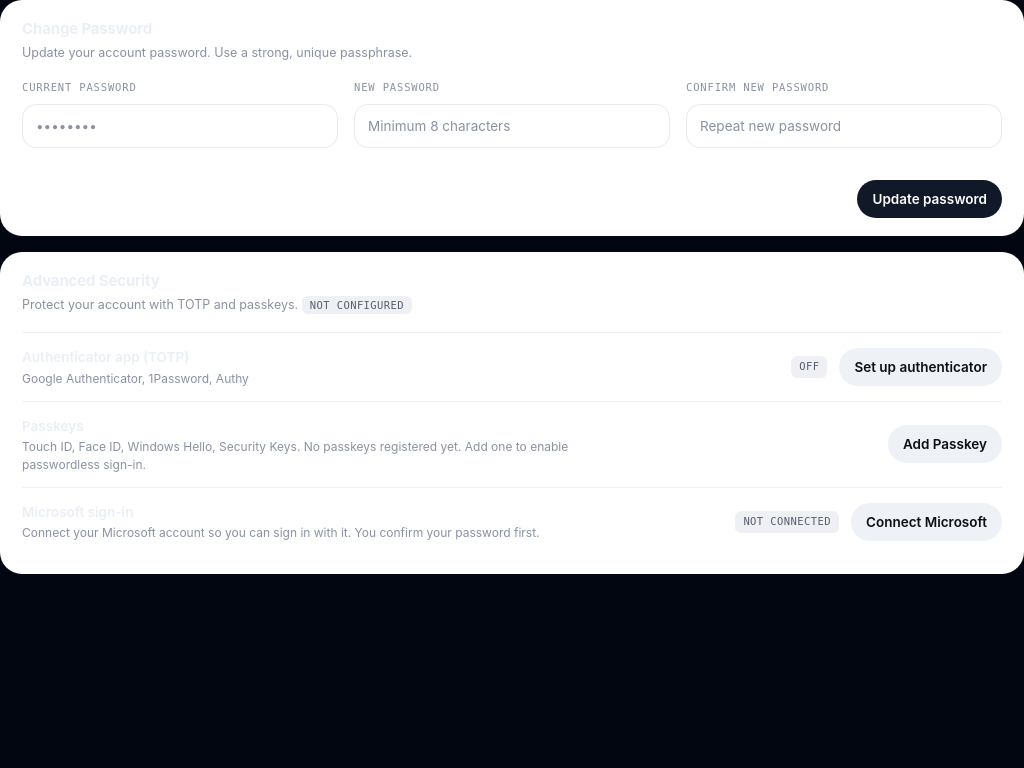
Test: SecuritySection Microsoft linking › sends nothing until the password and the confirmation are both given
Click the button "Connect Microsoft" at (926, 522), box [851, 503, 1002, 541]
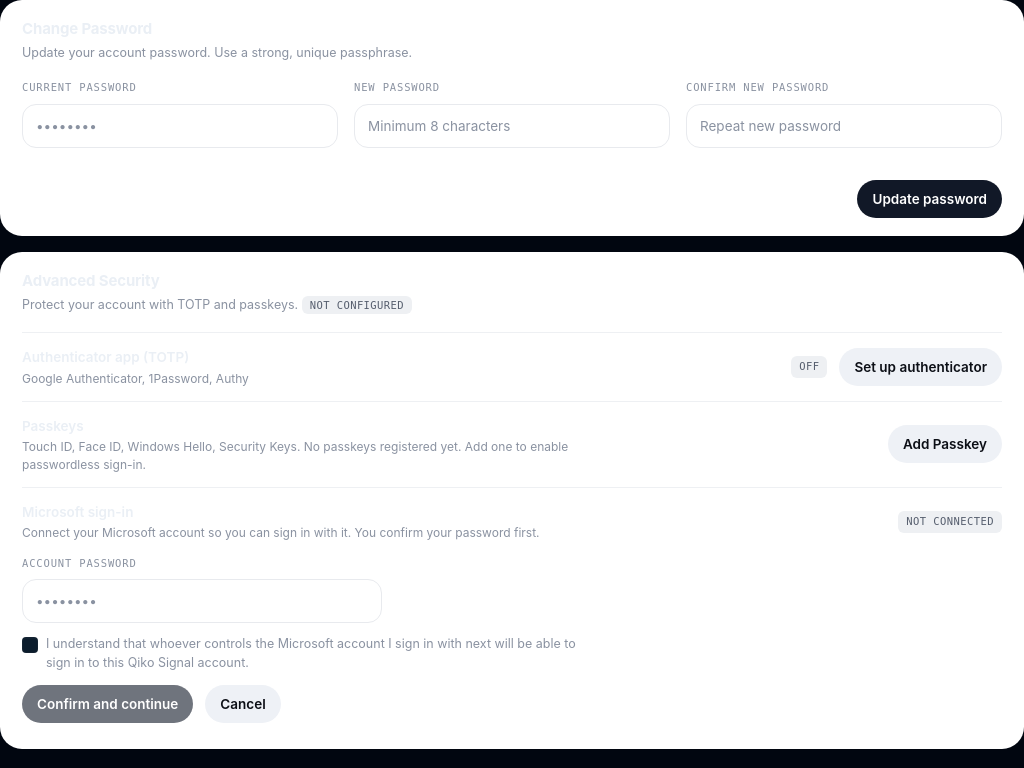
expect the button "Confirm and continue" is disabled: met, box [22, 685, 193, 723]
Type "Password123!" into the password field labelled "Account password" at (202, 601), box [22, 579, 382, 623]
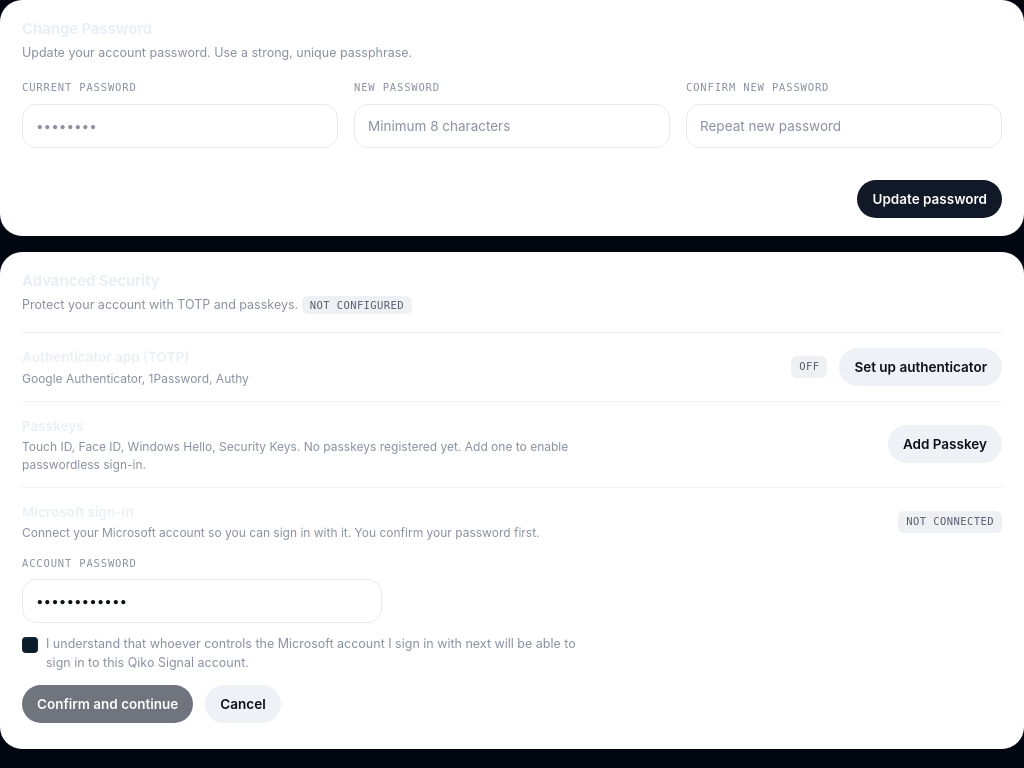
expect the button "Confirm and continue" is disabled: met, box [22, 685, 193, 723]
Click the checkbox at (30, 645), box [22, 637, 38, 653]
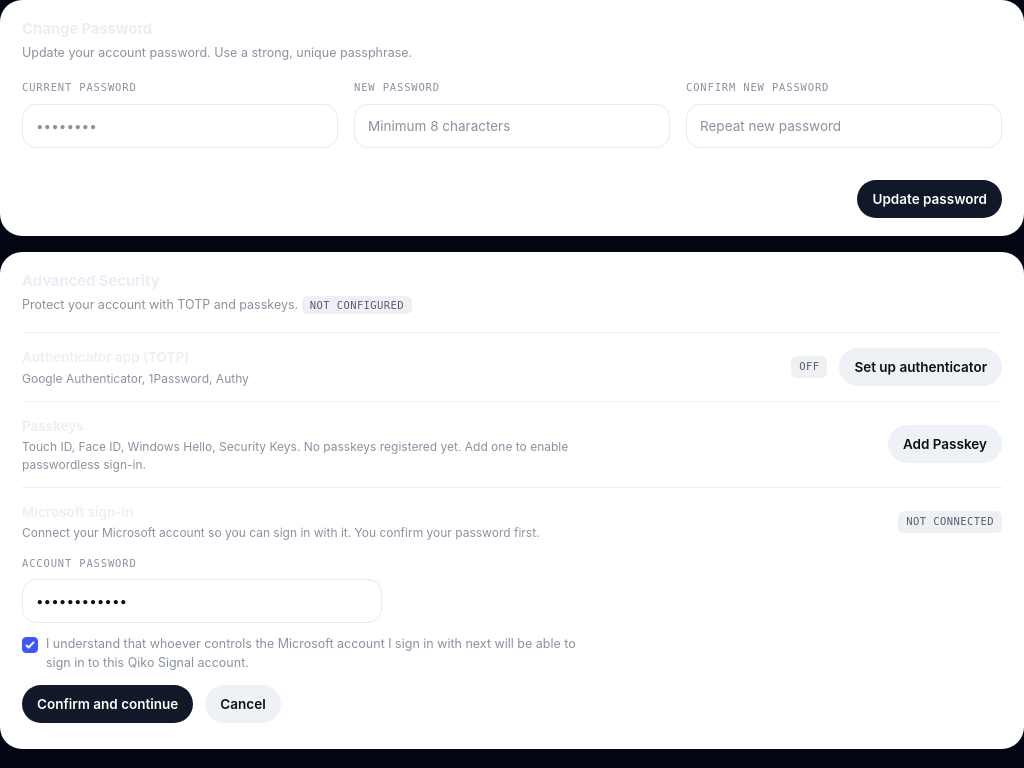
expect the button "Confirm and continue" is enabled: met, box [22, 685, 193, 723]
